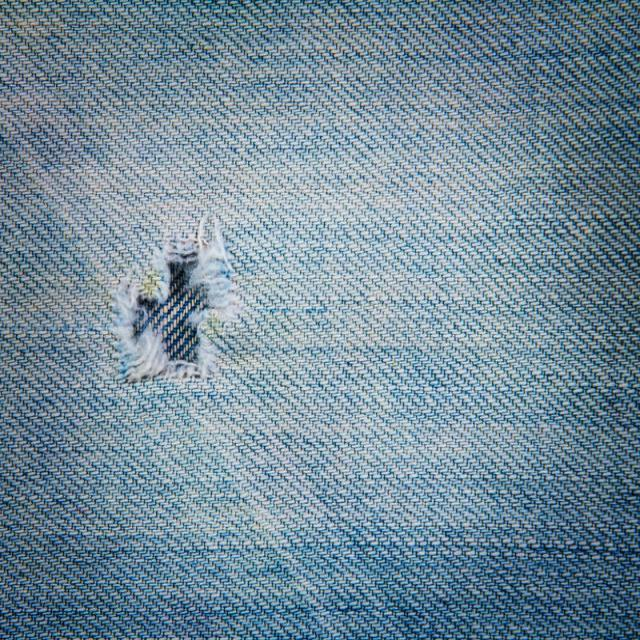Hole: (112, 219, 240, 382)
